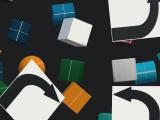Left: (108, 0, 160, 42), (112, 86, 160, 120)
Right: (0, 59, 65, 120)
